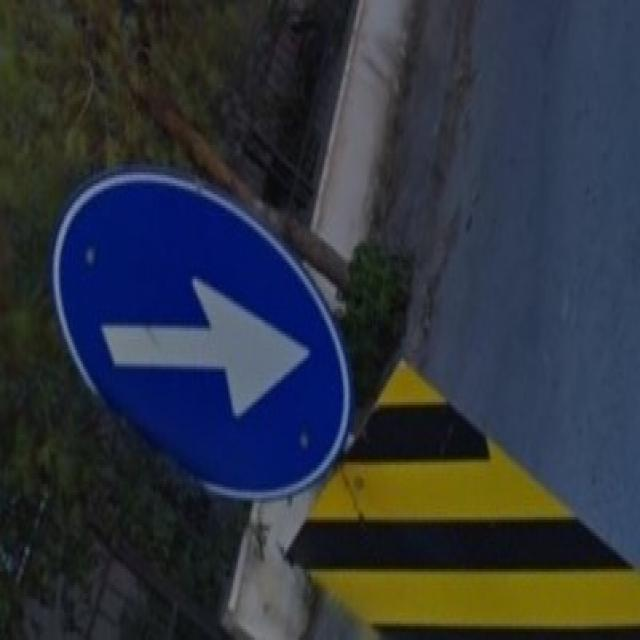Turn Right: (55, 172, 356, 514)
